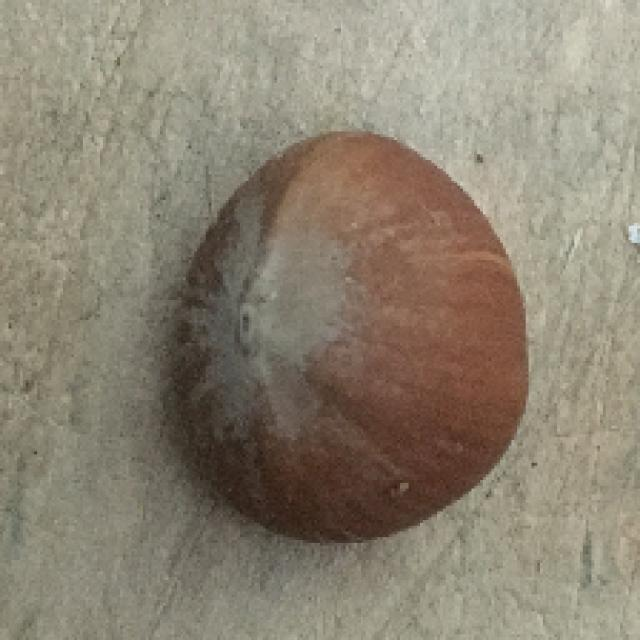qualityHazelnut: (173, 126, 526, 547)
